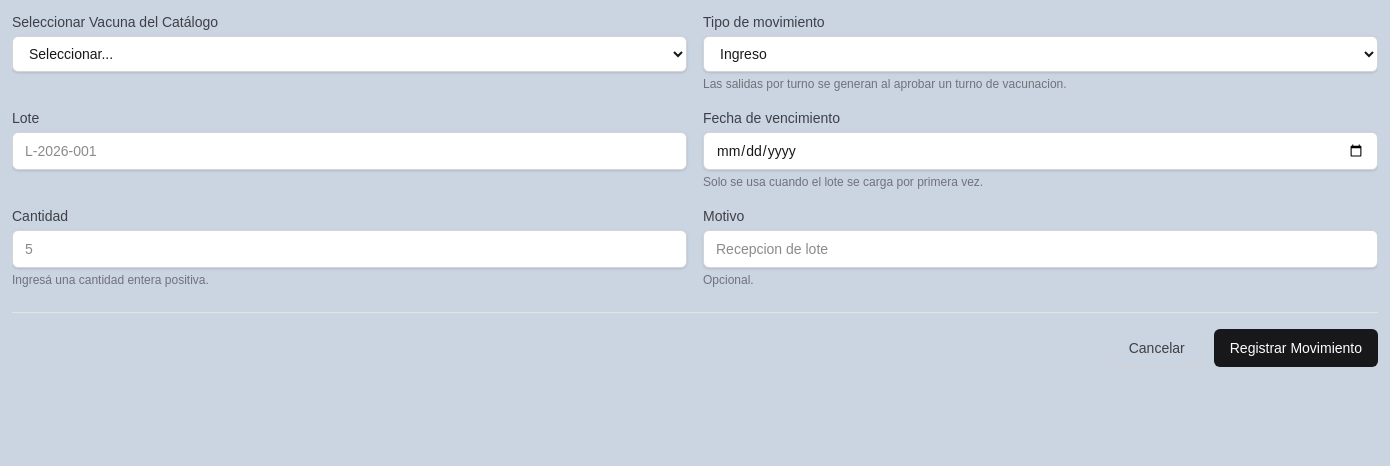
Test: SIG-MEJ-03.1/03.2: formulario integrado con la acción › ofrece Sumar/Descontar sin imponer una operación preseleccionada
The width and height of the screenshot is (1390, 466).
Select "Ajuste" in the dropdown labelled "Tipo de movimiento" at (1040, 54), box [703, 36, 1378, 72]
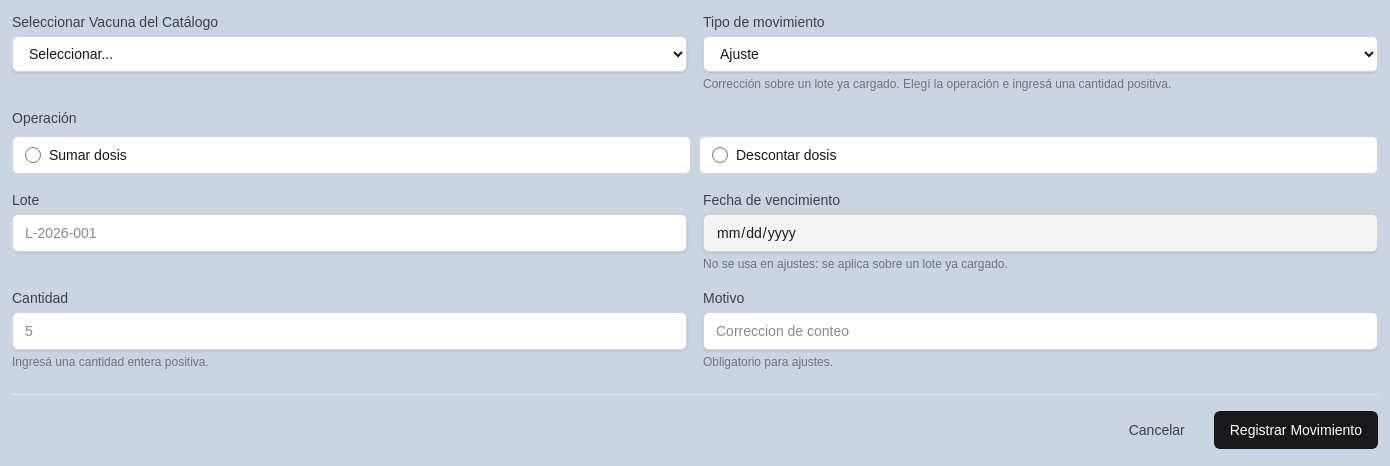
Now the radio button labelled "Sumar dosis" is not checked, box [25, 147, 41, 163]
Now the radio button labelled "Descontar dosis" is not checked, box [712, 147, 728, 163]
Now the date field labelled "Fecha de vencimiento" is disabled, box [703, 214, 1378, 252]
